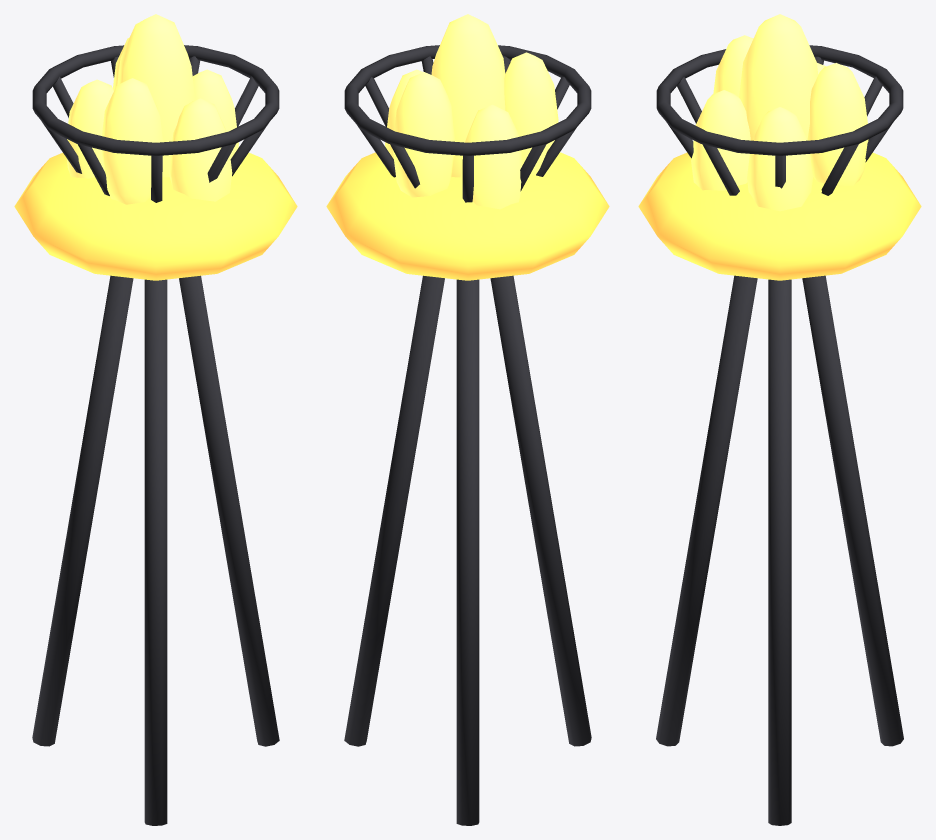
Rendered from brazier_iron_basket.glb.
3 renders of one model, left to right at view 1: azimuth 30°, elevation 25°; view 2: azimuth 150°, elevation 25°; view 3: azimuth 270°, elevation 25°, orthographic.
Visible parts, largest first — view 1: GD_brazier_iron_basket__m0, GD_brazier_iron_basket__m1, GD_brazier_iron_basket__m2; view 2: GD_brazier_iron_basket__m0, GD_brazier_iron_basket__m1, GD_brazier_iron_basket__m2; view 3: GD_brazier_iron_basket__m0, GD_brazier_iron_basket__m1, GD_brazier_iron_basket__m2.
Part boxes in pixels (box(x1,y1,x2,y2)): GD_brazier_iron_basket__m0: box(32, 45, 279, 825); GD_brazier_iron_basket__m1: box(14, 152, 297, 280); GD_brazier_iron_basket__m2: box(66, 14, 238, 204); GD_brazier_iron_basket__m0: box(344, 45, 591, 825); GD_brazier_iron_basket__m1: box(326, 152, 609, 280); GD_brazier_iron_basket__m2: box(385, 14, 558, 209); GD_brazier_iron_basket__m0: box(656, 45, 903, 825); GD_brazier_iron_basket__m1: box(638, 152, 921, 280); GD_brazier_iron_basket__m2: box(691, 14, 868, 211).
Bounding box in the file's own units: 0.48 × 1.41 × 0.48.
